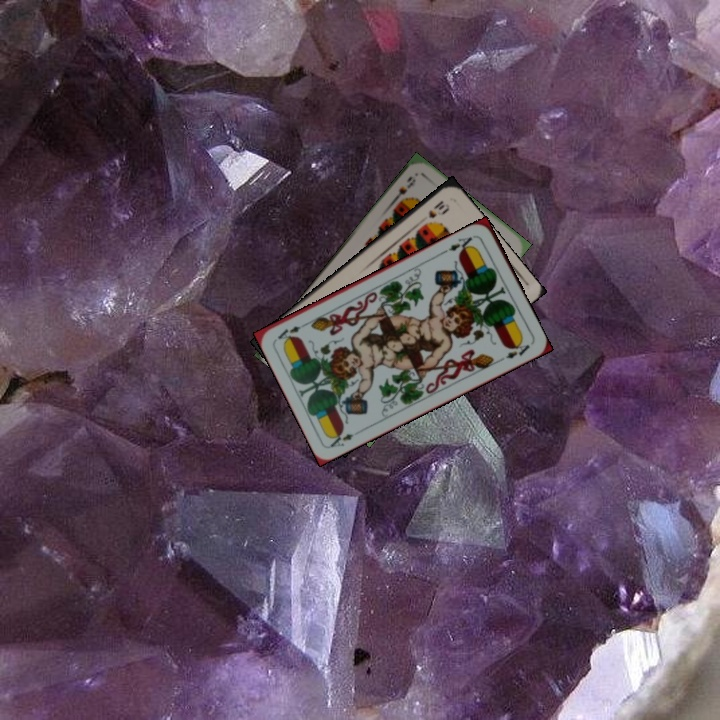EA: (440, 231, 478, 256), (326, 425, 364, 450)
S10: (424, 196, 447, 221)
S9: (389, 172, 418, 205)
